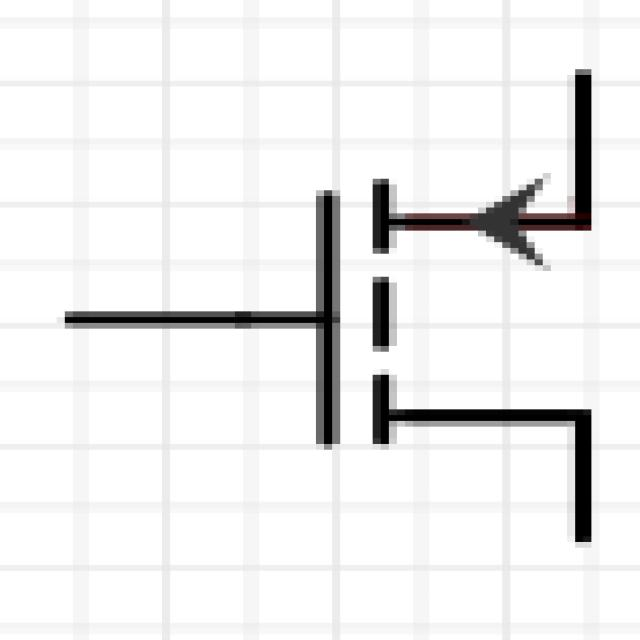pmos: (30, 64, 640, 560)
